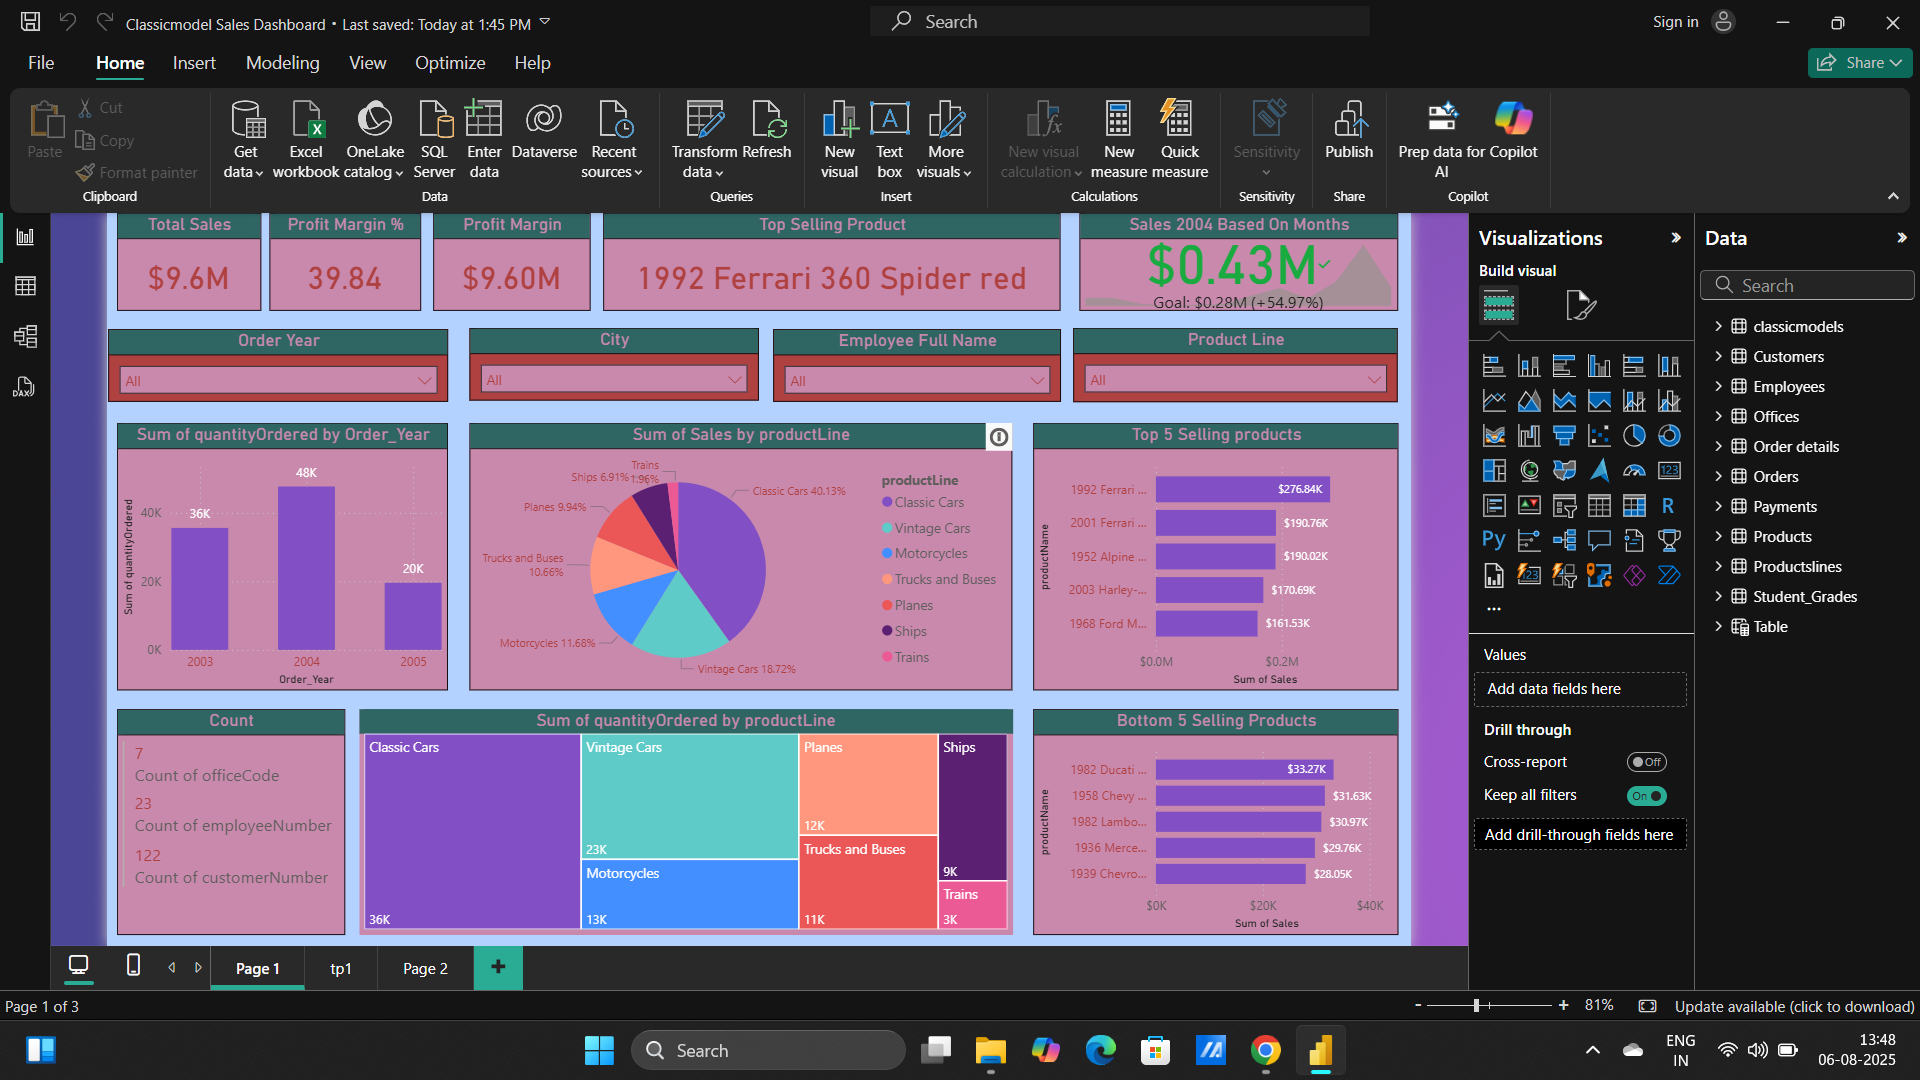

This screenshot's page, from the dashboard's own definition file:
{"tool":"powerbi","page":{"name":"Page 1","canvas":[1280,720],"ordinal":0},"visuals":[{"type":"card","title":"Profit Margin","fields":{"Values":["Order details.Total_Profit"]},"box":[320.2,0,154.6,95.7],"z":0},{"type":"card","title":"Top Selling Product","fields":{"Values":["Order details.MostOrderedProduct"]},"box":[487.1,0,449.1,95.7],"z":1000},{"type":"barChart","title":"Top 5 Selling products","fields":{"Category":["Products.productName"],"Y":["Order details.Sales"]},"box":[908.8,206.2,358.8,262.5],"z":2000},{"type":"pieChart","fields":{"Category":["Products.productLine"],"Y":["Order details.Sales"]},"box":[356.2,206.2,532.5,262.5],"z":3000},{"type":"slicer","title":"Order Year","fields":{"Values":["Orders.Order_Year"]},"box":[1.2,113.8,333.8,71.2],"z":4000},{"type":"multiRowCard","title":"Count","fields":{"Values":["Offices.officeCode","Employees.employeeNumber","Customers.customerNumber"]},"box":[10,487.5,223.8,221.2],"z":5000},{"type":"kpi","title":"Sales 2004 Based On Months","fields":{"TrendLine":["Orders.Month Name"],"Indicator":["Orders.sales_2004"],"Goal":["Orders.Sales_2003"]},"box":[955,0,312.5,96.2],"z":6000},{"type":"treemap","fields":{"Group":["Productslines.productLine"],"Values":["Order details.quantityOrdered"]},"box":[247.5,487.5,641.2,221.2],"z":7000},{"type":"clusteredColumnChart","fields":{"Category":["Orders.Order_Year"],"Y":["Order details.quantityOrdered"]},"box":[10,206.2,325,262.5],"z":8000},{"type":"card","title":"Profit Margin %","fields":{"Values":["Order details.profit_Margin_%"]},"box":[159.5,0,148.5,95.7],"z":9000},{"type":"card","title":"Total Sales","fields":{"Values":["Order details.Sales"]},"box":[10,0,141.2,96.2],"z":10000},{"type":"slicer","title":"City","fields":{"Values":["Offices.city"]},"box":[356.2,112.5,283.8,71.2],"z":11000},{"type":"slicer","title":"Employee Full Name","fields":{"Values":["Employees.FullName"]},"box":[653.8,113.8,282.5,71.2],"z":12000},{"type":"slicer","title":"Product Line","fields":{"Values":["Productslines.productLine"]},"box":[948.8,112.5,318.8,72.5],"z":13000},{"type":"barChart","title":"Bottom 5 Selling Products","fields":{"Category":["Products.productName"],"Y":["Order details.Sales"]},"box":[908.8,487.5,358.8,221.2],"z":14000},{"type":"actionButton","box":[862.5,206.2,26.2,27.5],"z":15000}]}

Visuals, with their boxes on the page's 1280x720 design canvas (x1, y1, x2, y2). These are canvas units, not pixel positions in the 1920x1080 screenshot, which may show the page scaled, cropped or inside an application window:
"Profit Margin" card: box(320, 0, 475, 96)
"Top Selling Product" card: box(487, 0, 936, 96)
"Top 5 Selling products" barChart: box(909, 206, 1268, 469)
pieChart - Products.productLine x Order details.Sales: box(356, 206, 889, 469)
"Order Year" slicer: box(1, 114, 335, 185)
"Count" multiRowCard: box(10, 488, 234, 709)
"Sales 2004 Based On Months" kpi: box(955, 0, 1268, 96)
treemap - Productslines.productLine x Order details.quantityOrdered: box(248, 488, 889, 709)
clusteredColumnChart - Orders.Order_Year x Order details.quantityOrdered: box(10, 206, 335, 469)
"Profit Margin %" card: box(160, 0, 308, 96)
"Total Sales" card: box(10, 0, 151, 96)
"City" slicer: box(356, 112, 640, 184)
"Employee Full Name" slicer: box(654, 114, 936, 185)
"Product Line" slicer: box(949, 112, 1268, 185)
"Bottom 5 Selling Products" barChart: box(909, 488, 1268, 709)
actionButton: box(862, 206, 889, 234)
